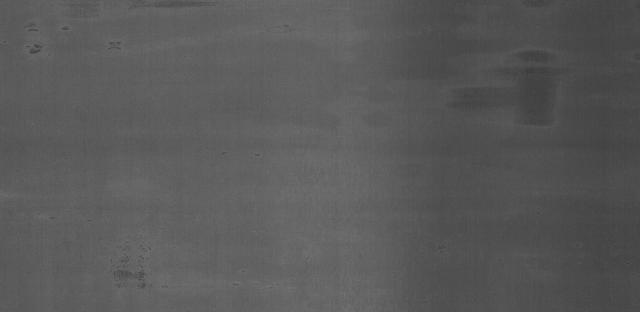water_spot: (108, 253, 159, 304)
